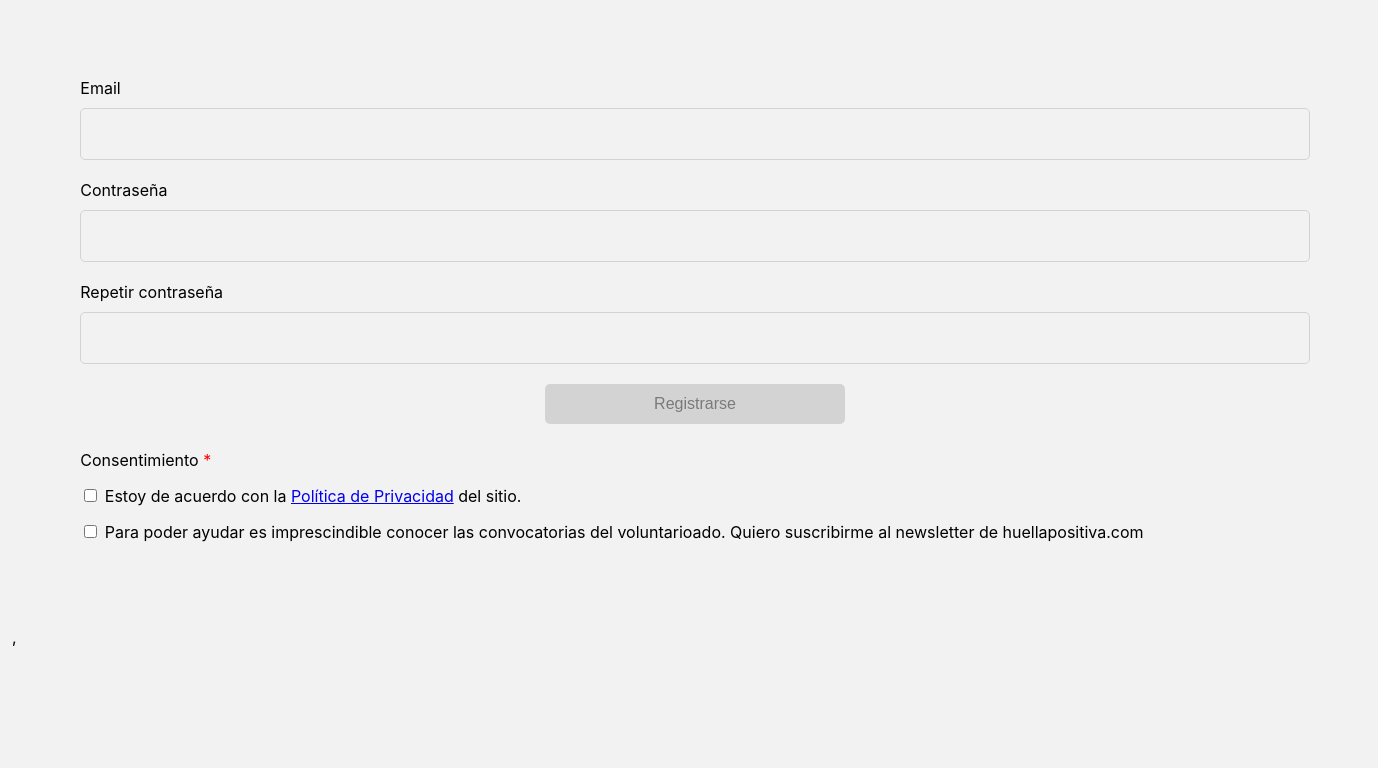
Scenario: FormRegisterVolunteer should › enable the button submit when all fields are fill with allowed values
In the field named "input-form": [695, 134] box [80,108,1310,160], type "irrelevant@email.com"
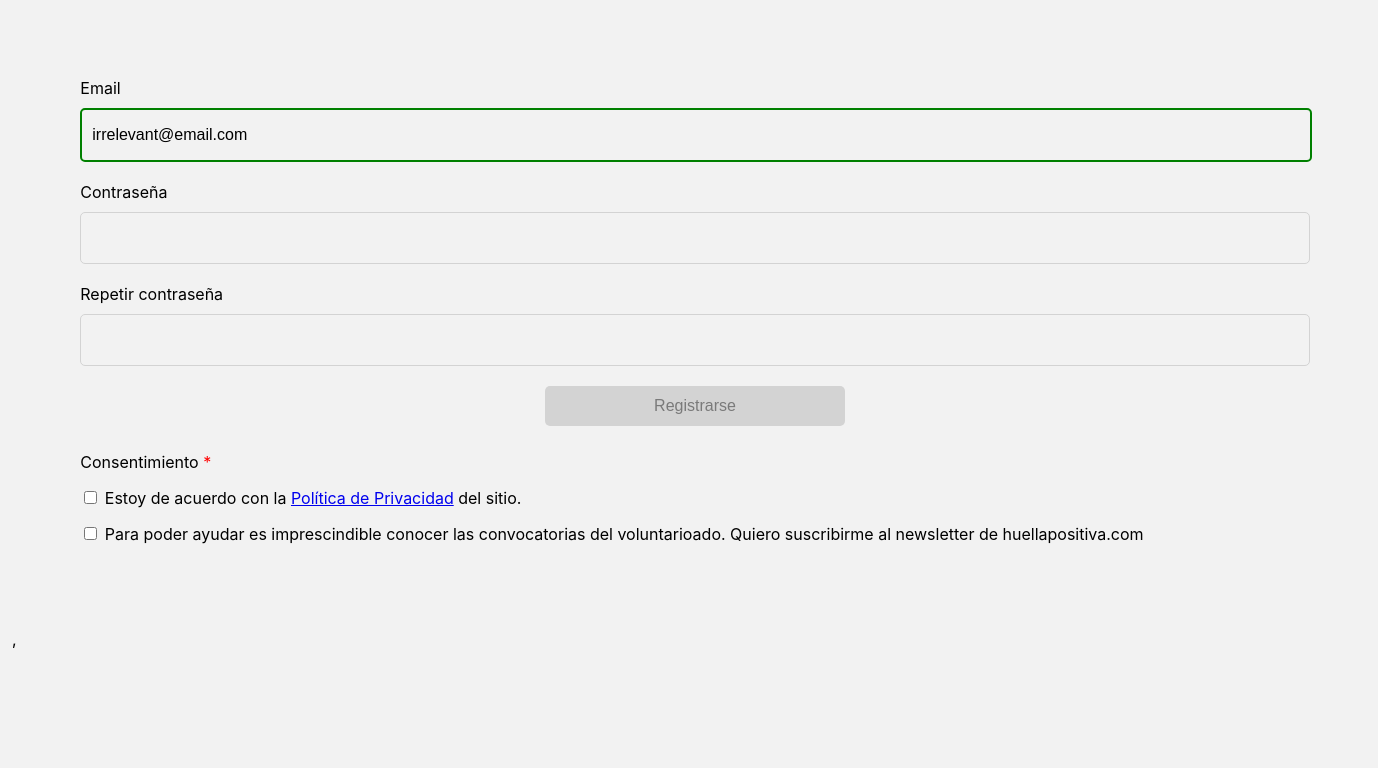
expect the button with aria-label "submit-button" is disabled: met, box [545,386,845,426]
In the 1st password field named "input-form": [695, 238] box [80,212,1310,264], type "aLongPassword"
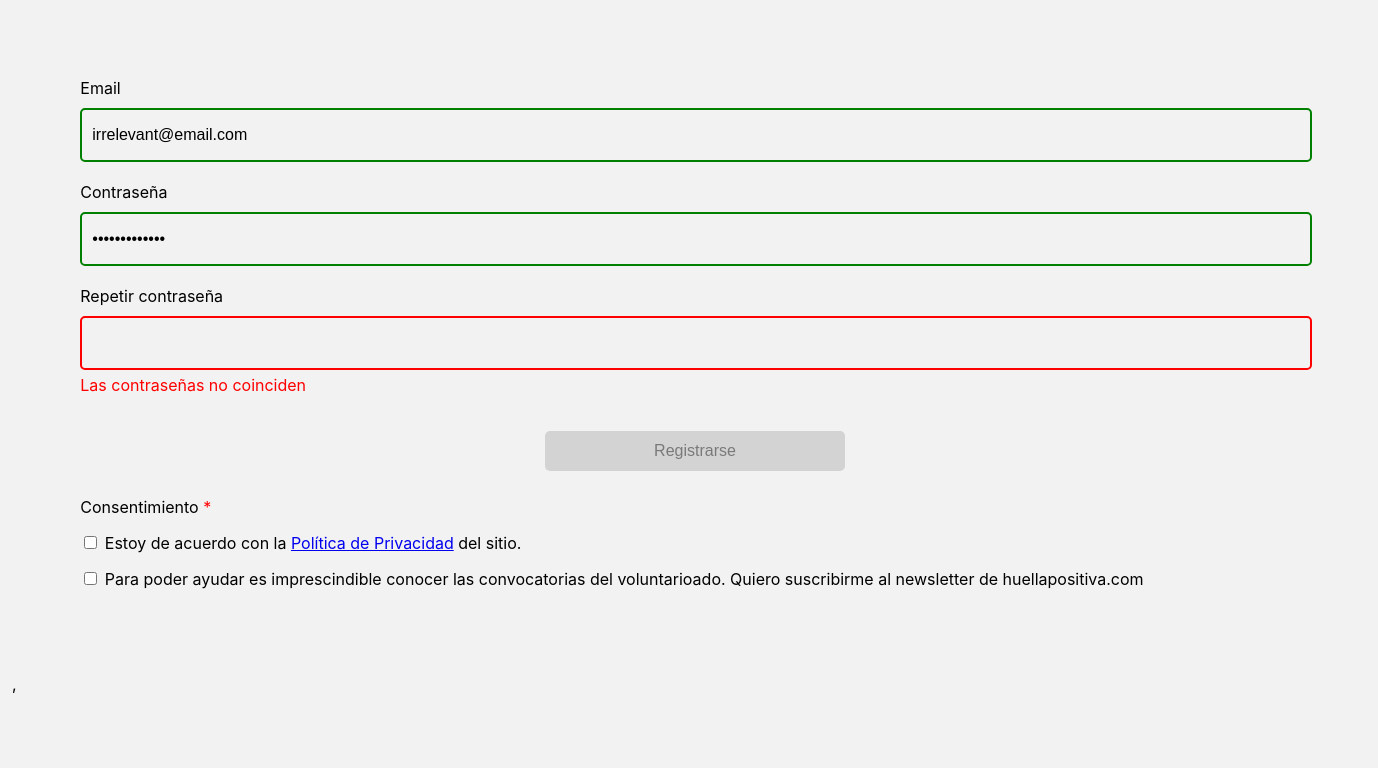
expect the button with aria-label "submit-button" is disabled: met, box [545,431,845,471]
In the password field named "input-form" below "Repetir contraseña": [696, 343] box [80,316,1312,370], type "aLongPassword"
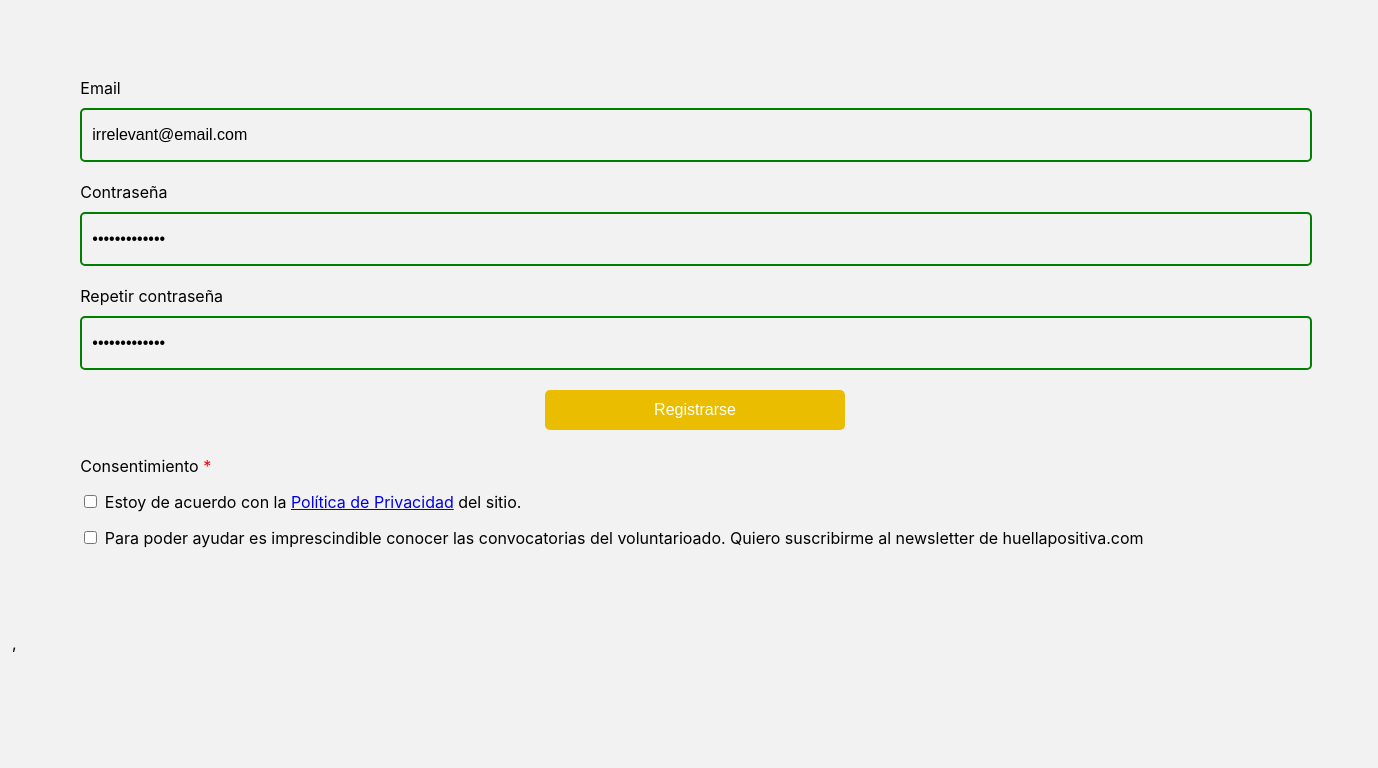
expect the button with aria-label "submit-button" is enabled: met, box [545,390,845,430]
